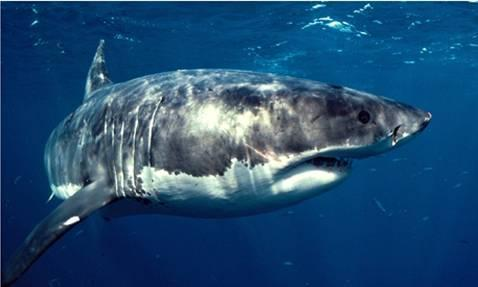fish: (5, 40, 432, 279)
